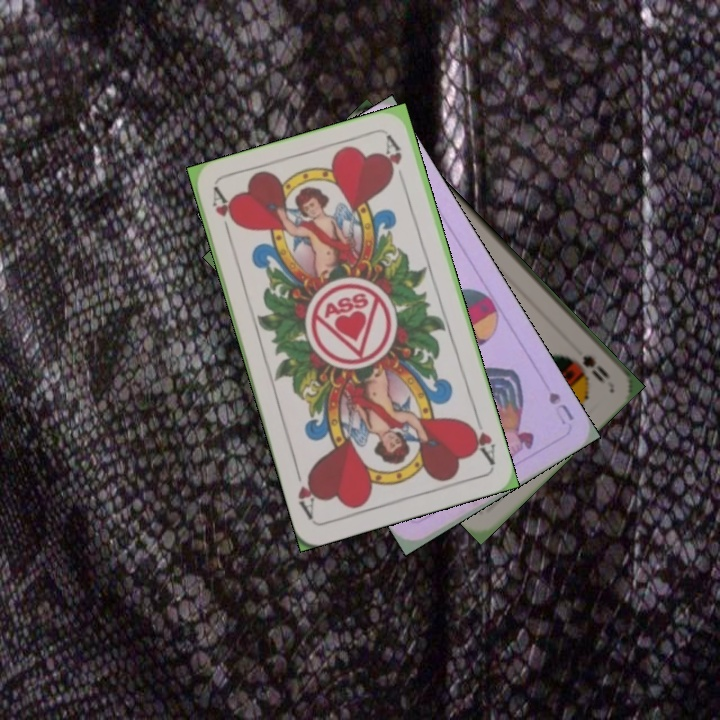HA: (464, 410, 499, 467), (208, 184, 239, 243)
SO: (578, 351, 612, 387)
SU: (544, 388, 577, 427)
